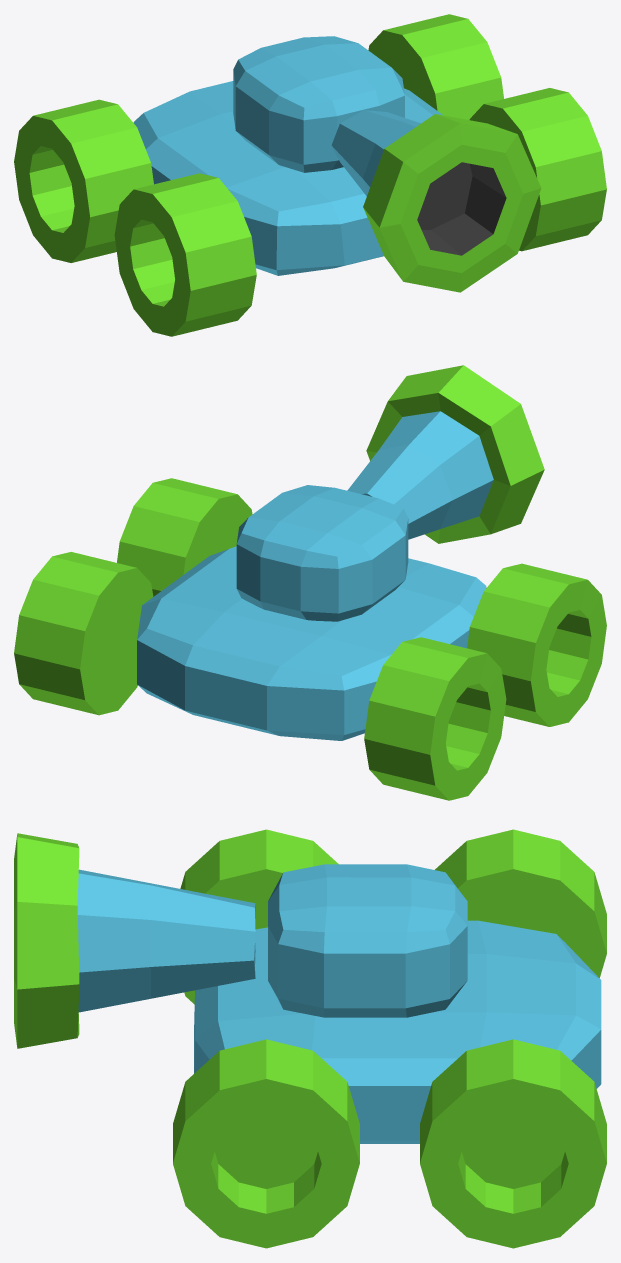
File: tank.fbx
3 renders of one model, top to bottom at view 1: azimuth 30°, elevation 25°; view 2: azimuth 150°, elevation 25°; view 3: azimuth 270°, elevation 25°, orthographic. The views are drawn at different scales.
Parts seen in each view (by area): view 1: tank; view 2: tank; view 3: tank.
Boxes of the visible parts, x1,y1,x2,y2 form: tank: (14,14,606,336); tank: (14,365,606,800); tank: (14,829,606,1248).
Size of the model in its own units: 10.89 by 5.82 by 10.94.
